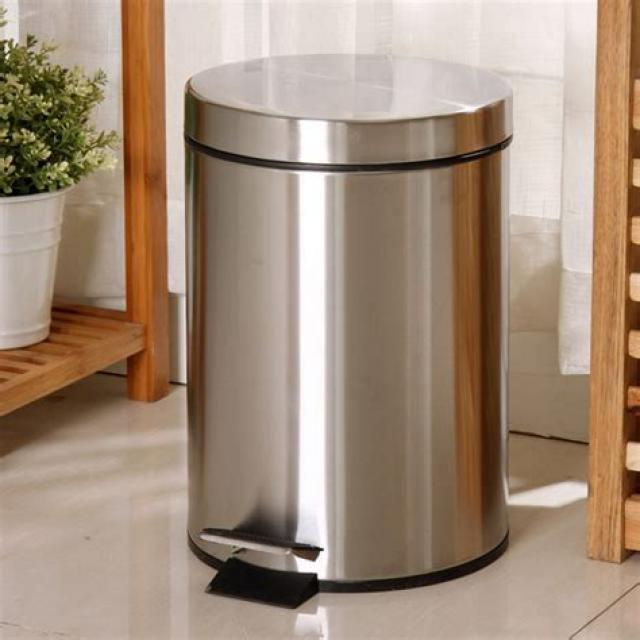garbage container: (152, 44, 533, 602)
